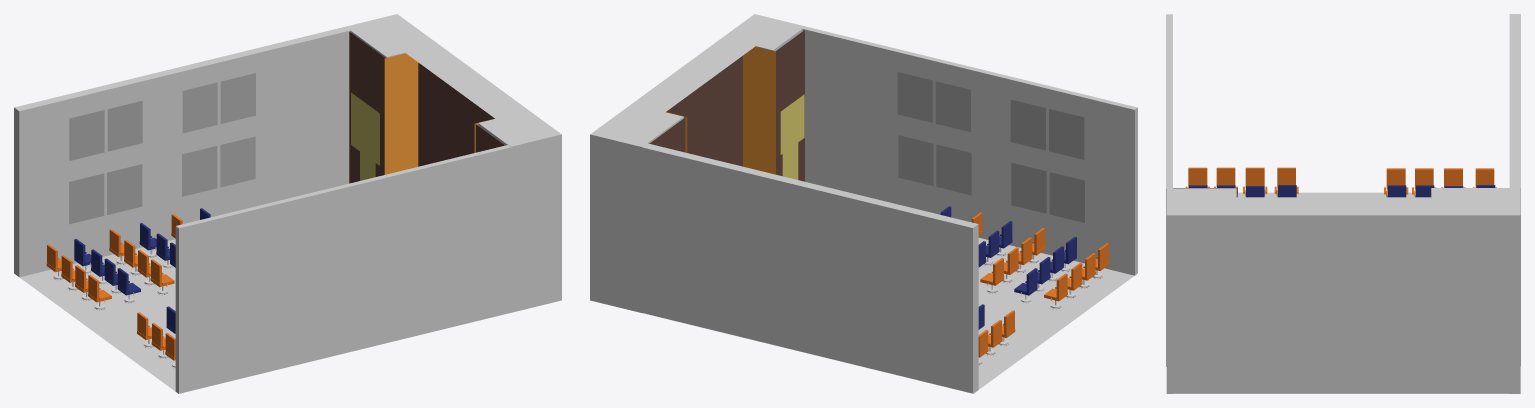
Rendered from Aula.glb.
3 renders of one model, left to right at view 1: azimuth 30°, elevation 25°; view 2: azimuth 150°, elevation 25°; view 3: azimuth 270°, elevation 25°, orthographic. The views are drawn at different scales.
Visible parts, largest first — view 1: Plane, Cube.001, Plane.008, Plane.003, Plane.011, Plane.001, Plane.004, Kubus.008, Kubus.010, Kubus.009, Kubus.014, Kubus.007; view 2: Cube, Cube.001, Plane, Plane.009, Plane.003, Plane.010, Plane.002, Kubus.012, Kubus.014, Kubus.013, Plane.005, Kubus.010 (+3 smaller); view 3: Cube.002, Plane, Kubus.014, Kubus.010, Cube.001, Kubus.013, Kubus.009, Cube.
Boxes of the visible parts, x1,y1,x2,y2 form: Plane: (14, 14, 561, 393); Cube.001: (175, 145, 511, 393); Plane.008: (69, 73, 255, 224); Plane.003: (418, 62, 494, 166); Plane.011: (384, 53, 418, 174); Plane.001: (349, 32, 385, 183); Plane.004: (351, 92, 379, 165); Kubus.008: (109, 229, 174, 295); Kubus.010: (46, 244, 111, 310); Kubus.009: (74, 239, 140, 303); Kubus.014: (137, 312, 175, 368); Kubus.007: (139, 223, 175, 268); Cube: (642, 147, 973, 393); Cube.001: (802, 26, 1137, 275); Plane: (590, 14, 1137, 393); Plane.009: (897, 72, 1084, 222); Plane.003: (666, 56, 742, 166); Plane.010: (743, 46, 775, 174); Plane.002: (776, 30, 804, 181); Kubus.012: (980, 228, 1045, 293); Kubus.014: (1044, 243, 1109, 309); Kubus.013: (1014, 237, 1076, 303); Plane.005: (780, 94, 804, 154); Kubus.010: (978, 310, 1015, 364); Cube.002: (1167, 215, 1509, 393); Plane: (1166, 14, 1520, 393); Kubus.014: (1185, 167, 1298, 197); Kubus.010: (1384, 168, 1496, 197); Cube.001: (1166, 14, 1172, 366); Kubus.013: (1189, 185, 1296, 197); Kubus.009: (1388, 185, 1495, 197); Cube: (1520, 14, 1520, 365).
Size of the model in its own units: 7.95 by 3.3 by 5.92.
